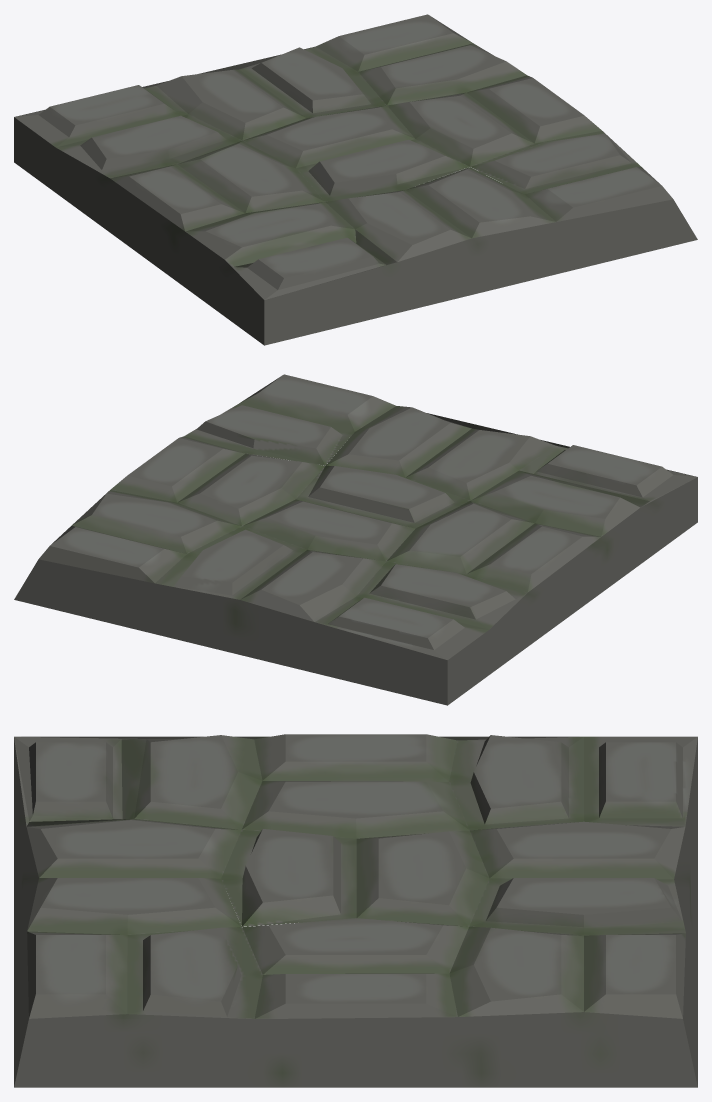
The model's file is CrissCrossFloor.glb.
The picture shows the model from 3 angles, top to bottom: view 1: azimuth 30°, elevation 25°; view 2: azimuth 150°, elevation 25°; view 3: azimuth 270°, elevation 25°; orthographic projection. The views are drawn at different scales.
Visible parts, largest first — view 1: Cube; view 2: Cube; view 3: Cube.
Boxes of the visible parts, x1=… form: Cube: x1=14, y1=14, x2=697, y2=345; Cube: x1=14, y1=374, x2=697, y2=705; Cube: x1=14, y1=734, x2=697, y2=1087.
Size of the model in its own units: 2 by 0.25 by 2.
1 material, 1 textured.
